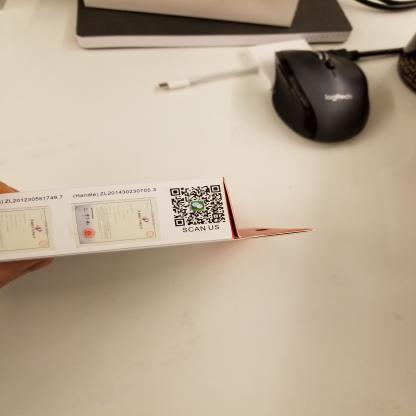qr: (169, 184, 227, 226)
